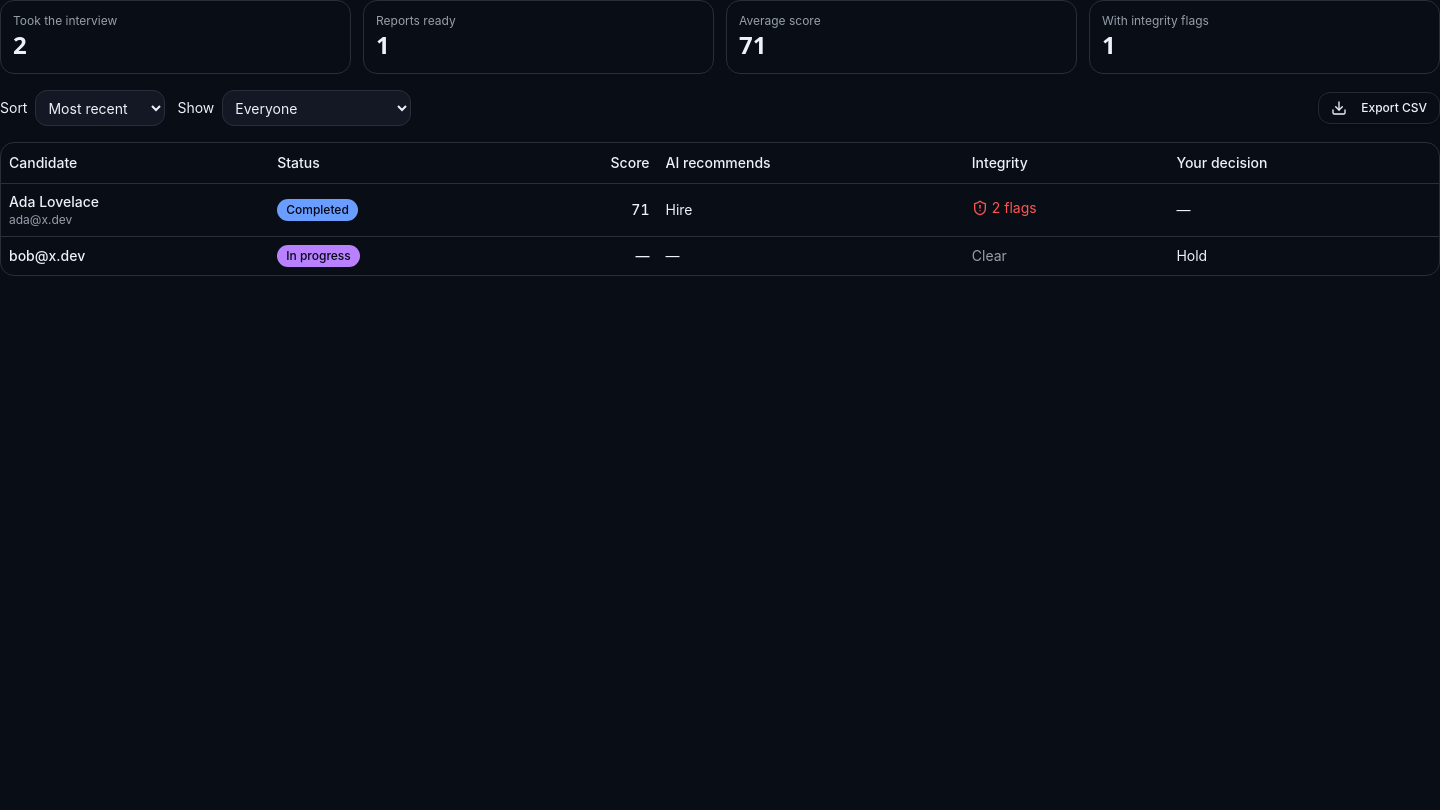
Test case: ResultsPanel and candidate report › says so when the report is not ready yet
Click the button "Ada Lovelace". click: (54, 202)
box: [9,192,99,212]
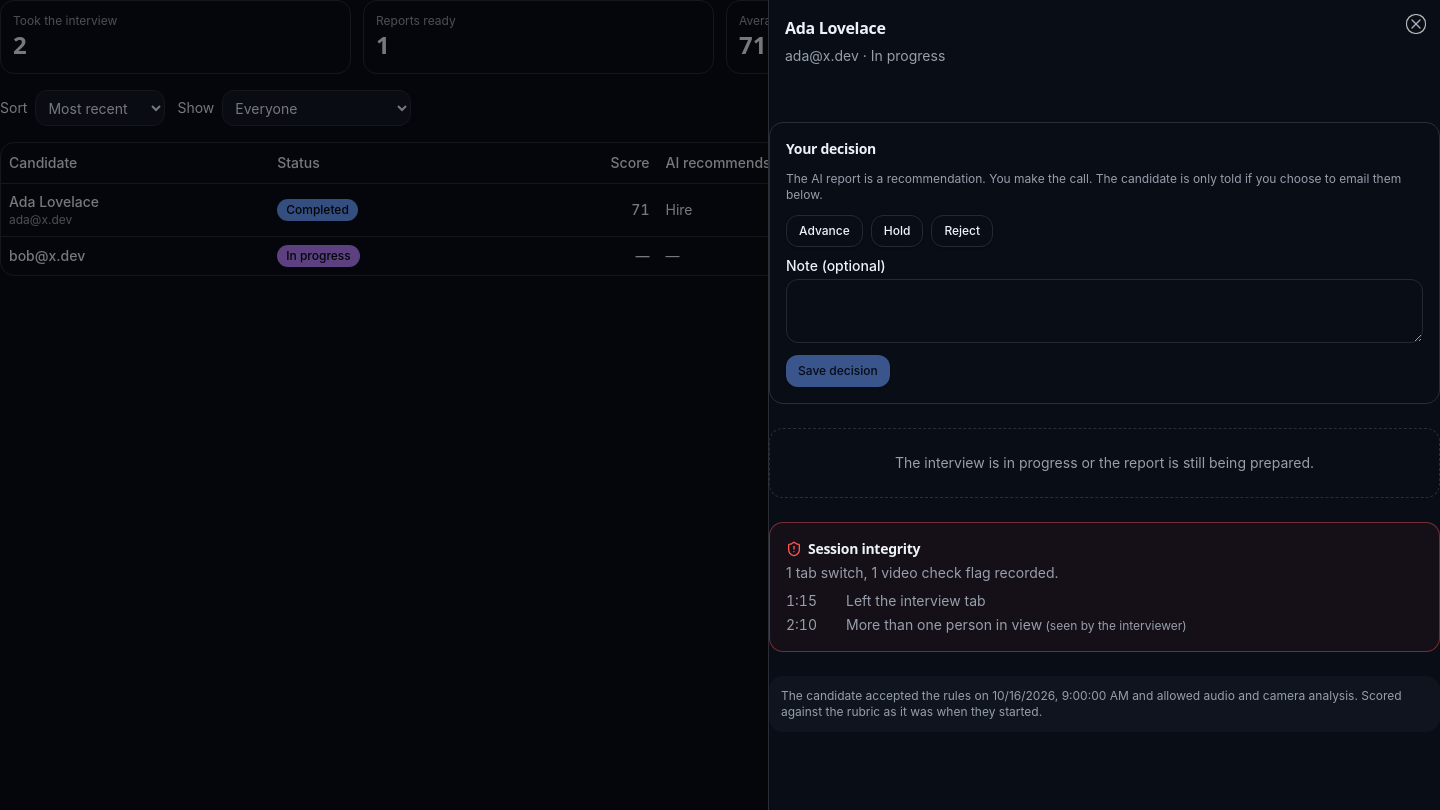
Expected: the text "in progress or the report is still being prepared" is shown, [895,454,1314,471]
